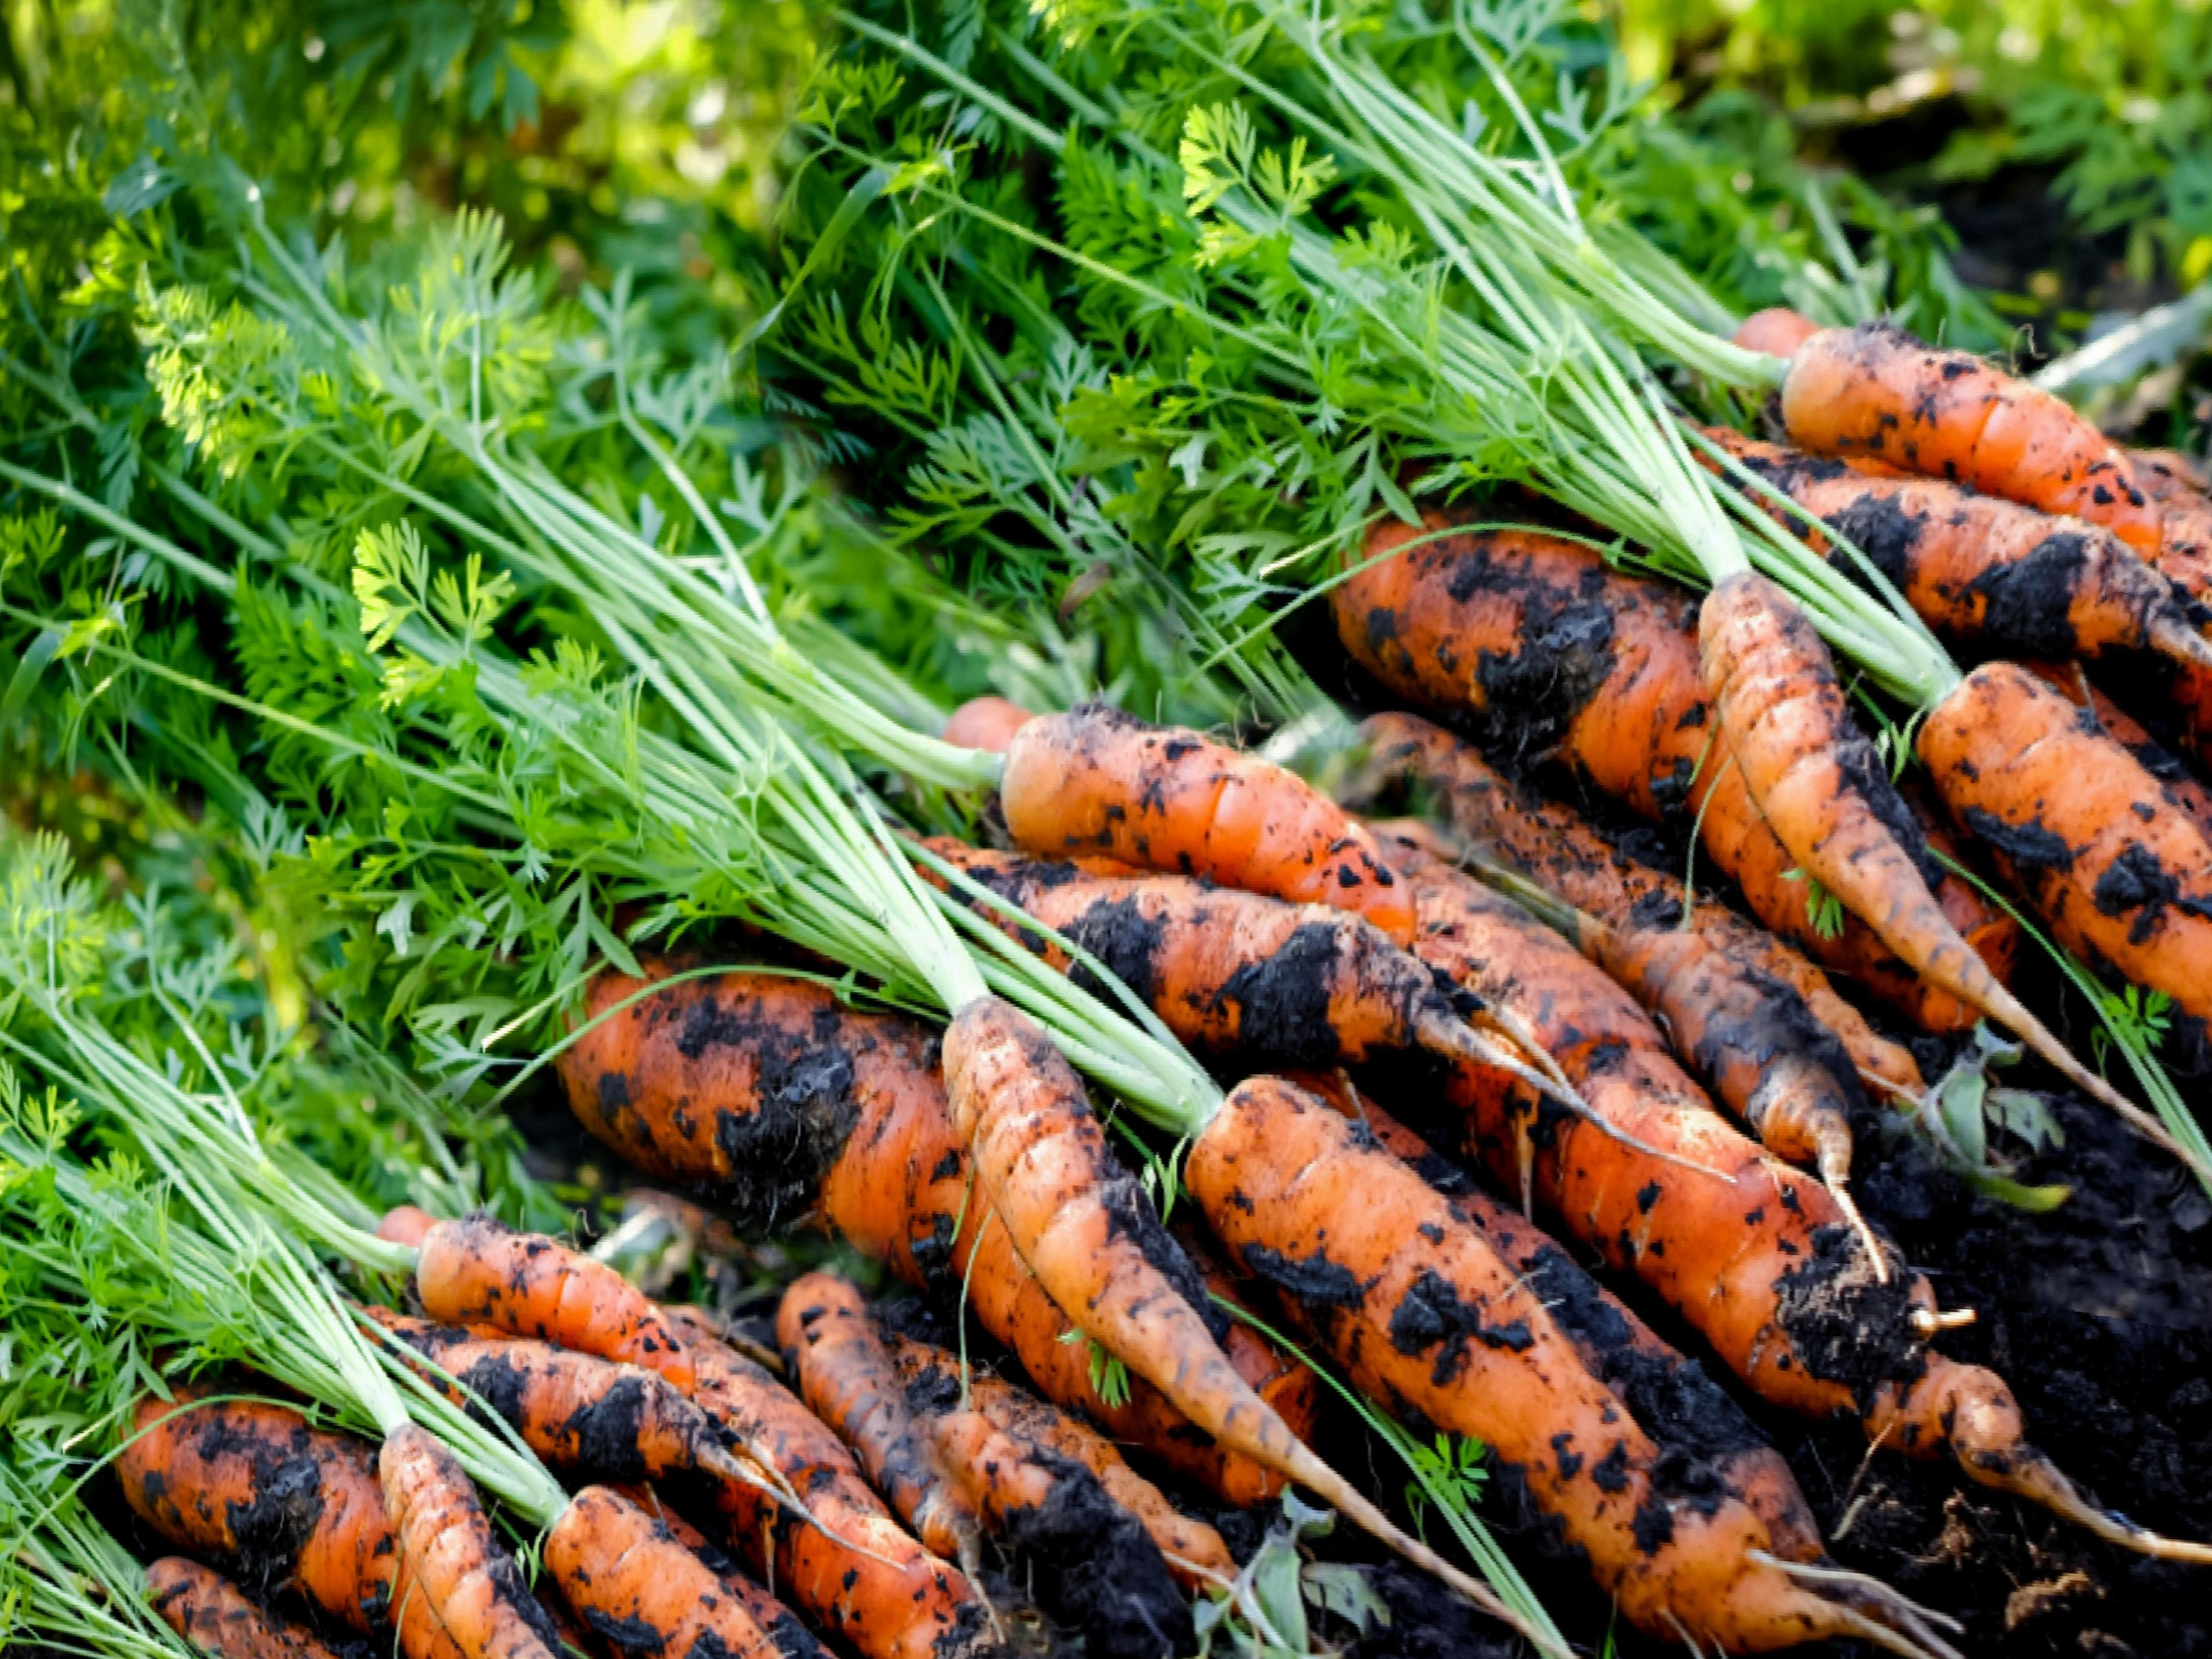carrot: (491, 863, 2188, 1659), (1054, 467, 2212, 1553), (0, 1195, 1061, 1659)
